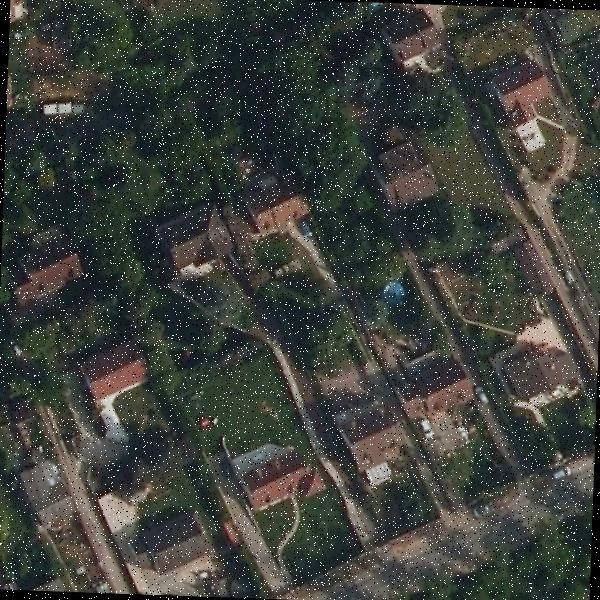Buildings: (242, 449, 314, 512), (492, 66, 548, 145), (501, 341, 574, 395), (374, 152, 435, 208), (20, 243, 76, 302), (344, 412, 393, 477), (384, 12, 444, 64), (87, 351, 148, 402), (138, 516, 192, 568), (406, 367, 464, 414), (176, 217, 225, 266), (251, 180, 296, 231), (526, 258, 545, 275)
